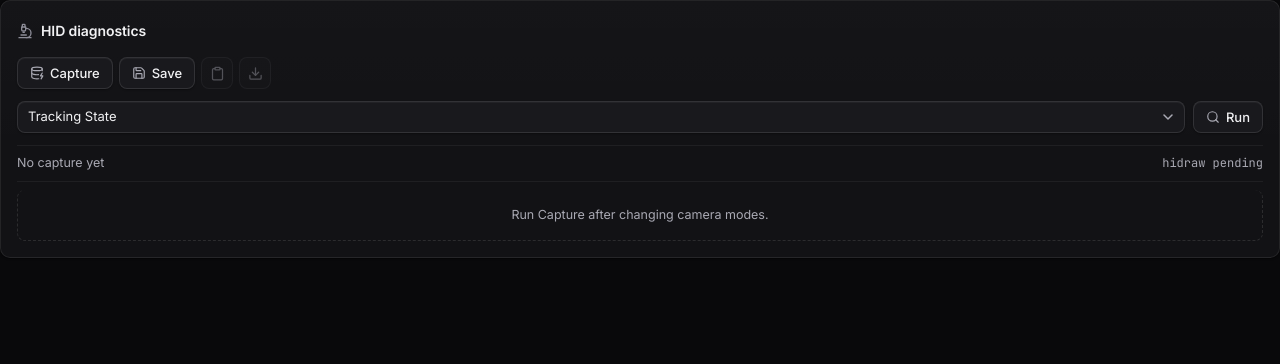
Test: HidDiagnosticsPanel › runs the explorer query selected in the dropdown
Select "audio state" in the dropdown named "HID query" at (601, 117), box [17,101,1185,133]
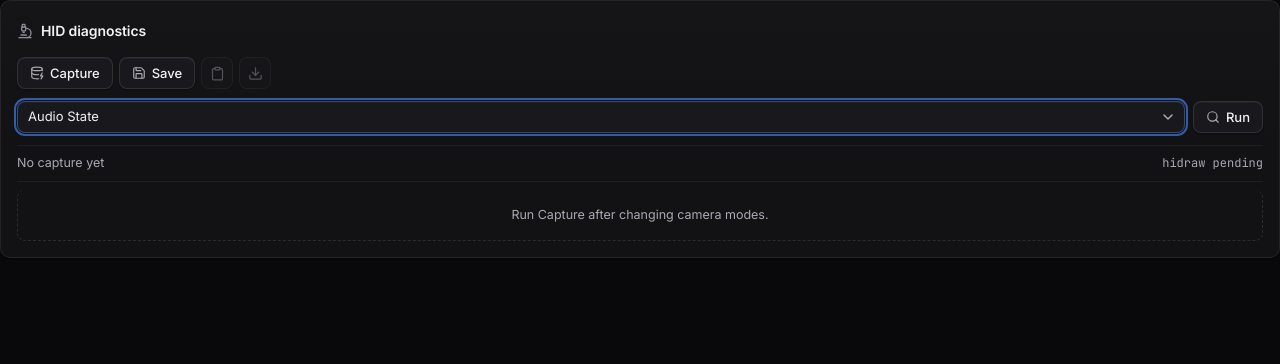
Click the button "Run".
click(1228, 117)  # box [1193,101,1263,133]
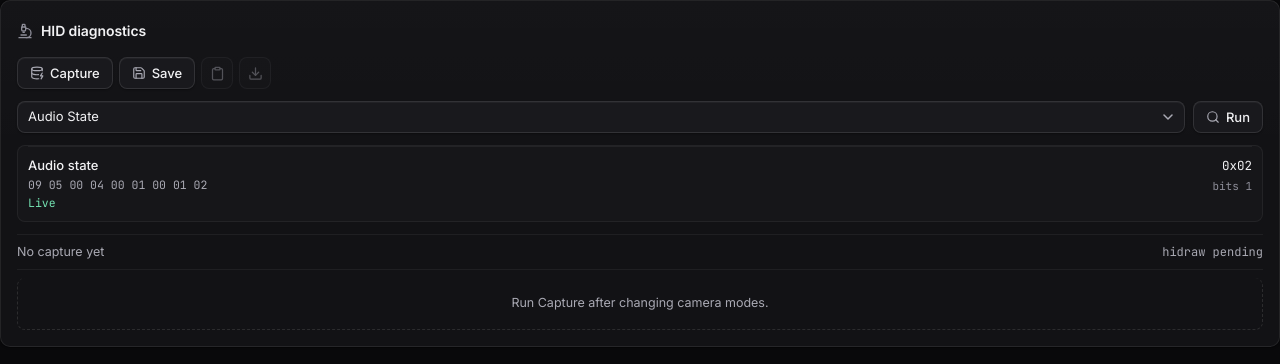
Check: the text "Live" is shown, box [28,195,56,210]
